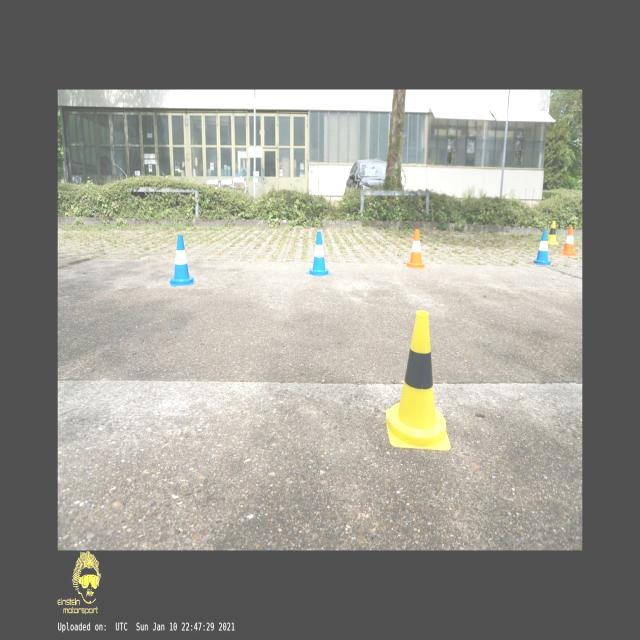blue_cone: (170, 236, 196, 286), (306, 231, 331, 277), (534, 230, 552, 264)
orange_cone: (406, 229, 424, 268), (561, 227, 576, 256)
yellow_cone: (386, 310, 452, 450), (548, 221, 558, 245)
